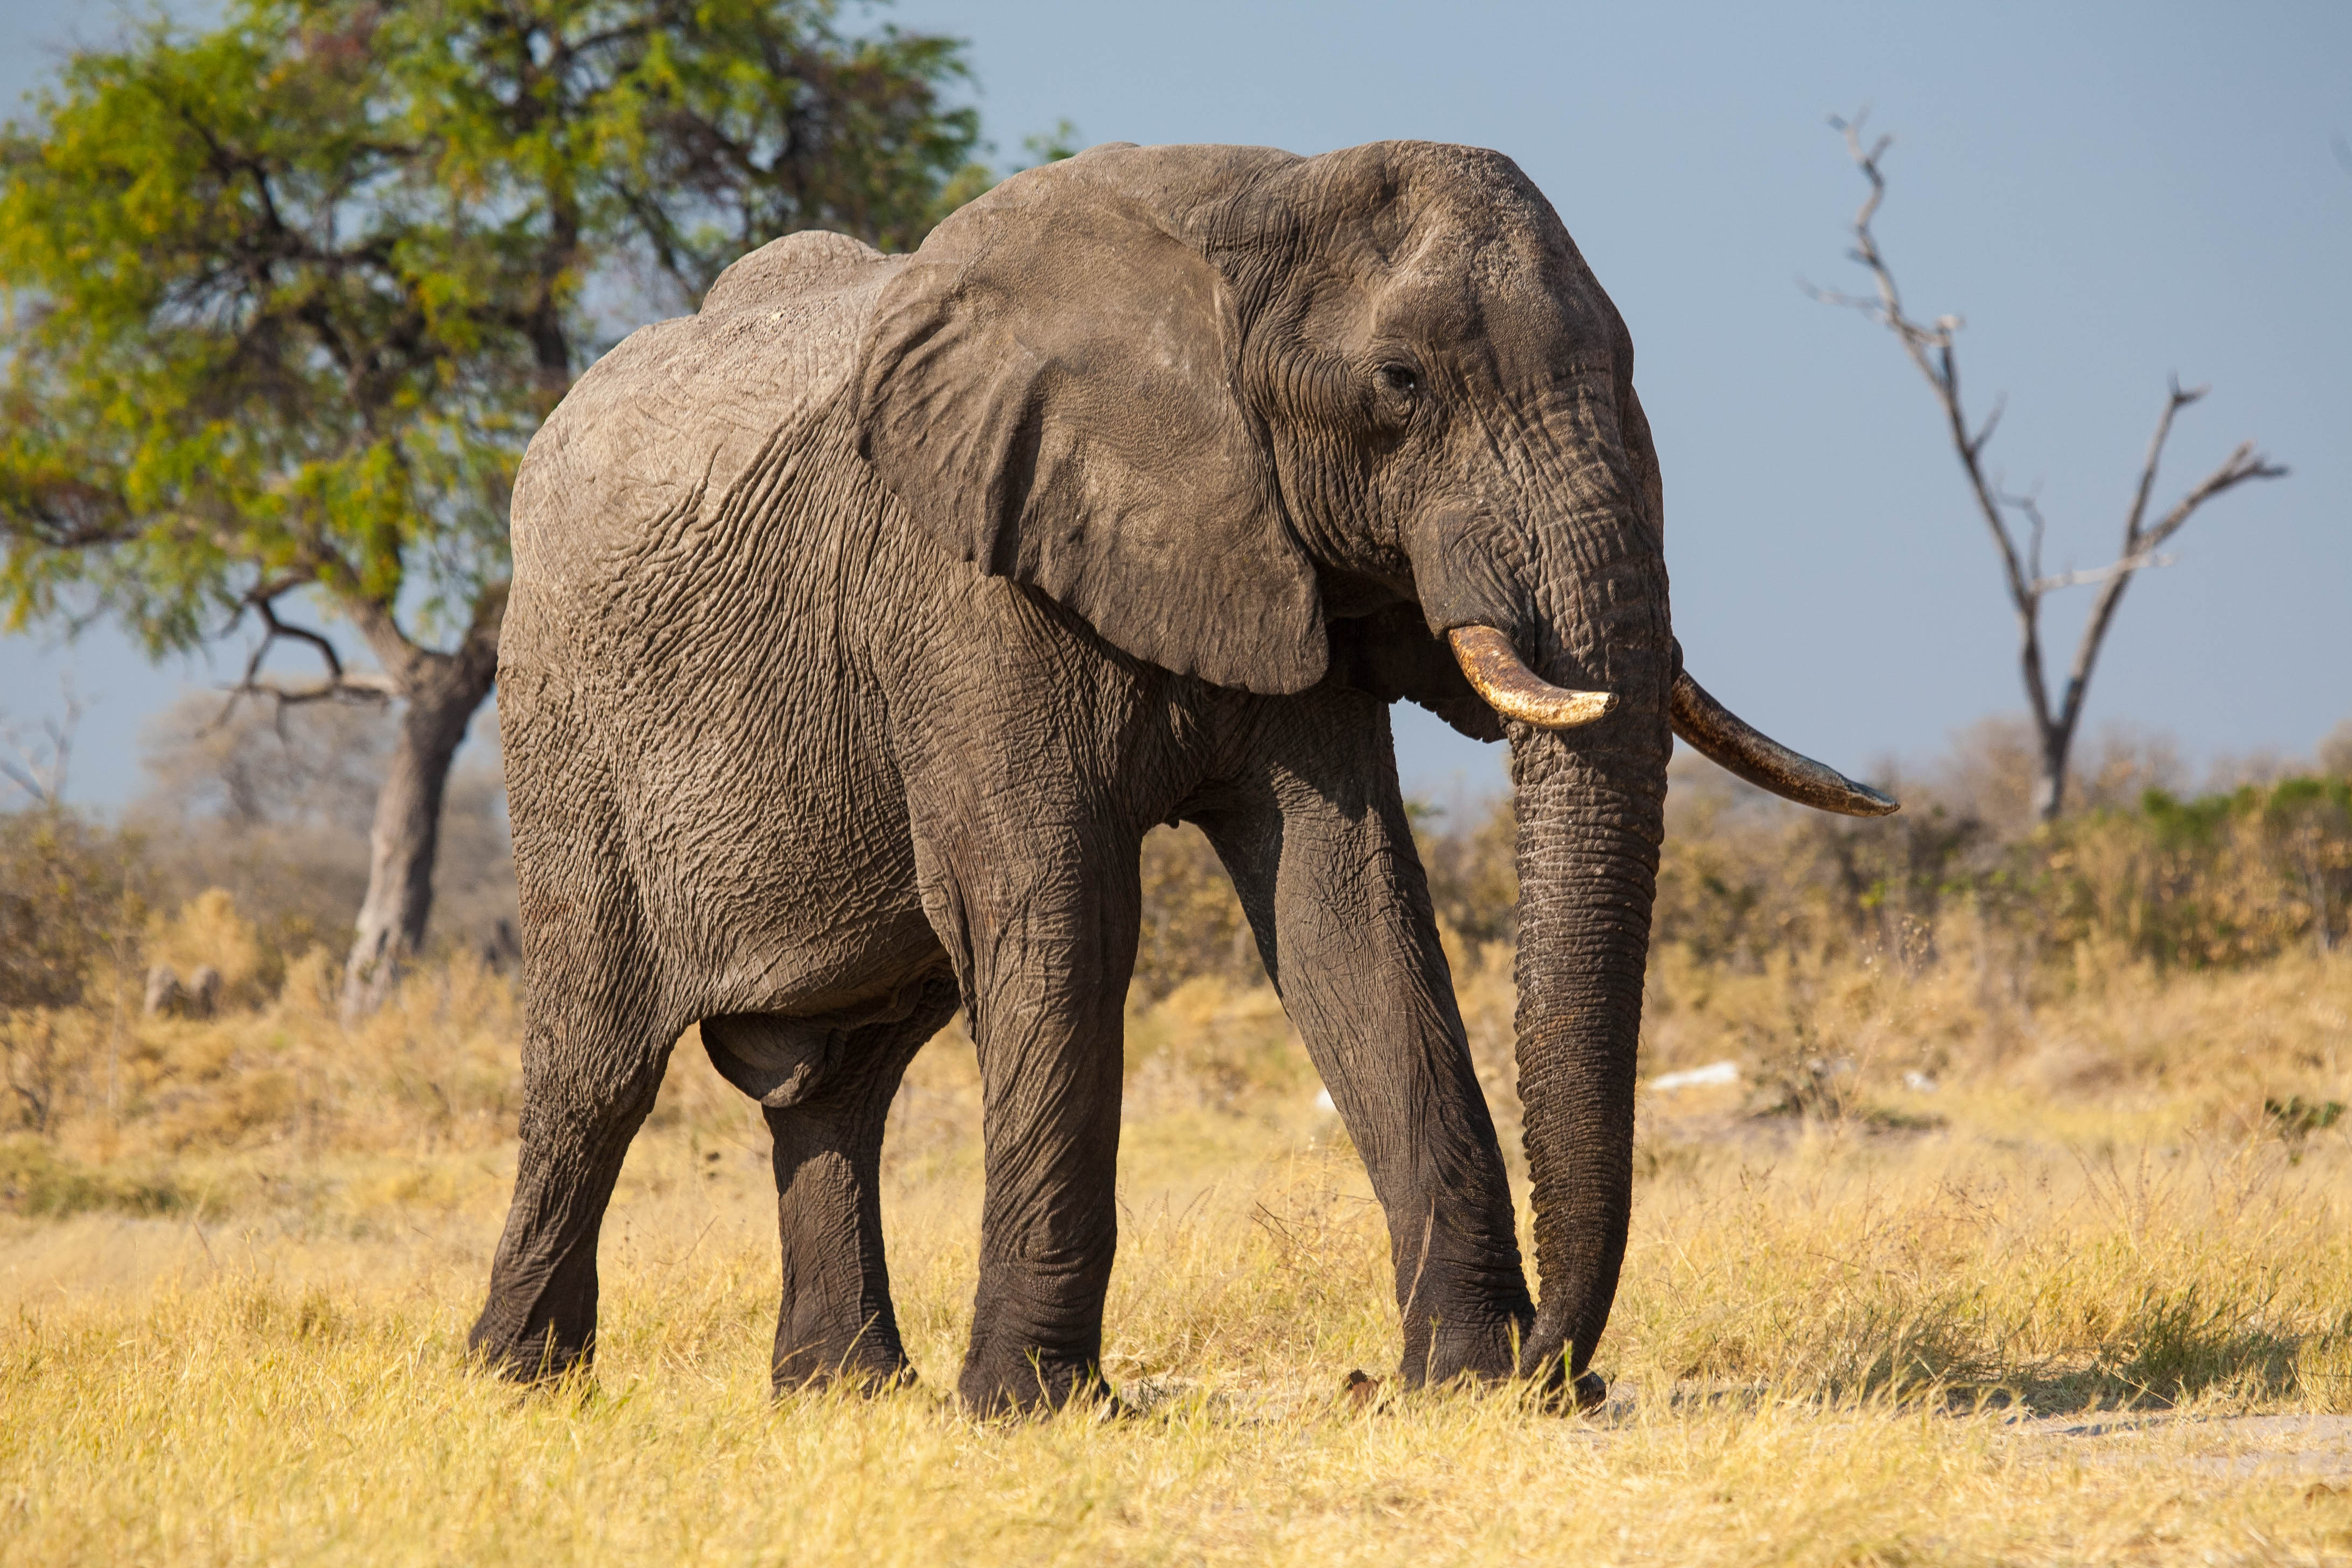elephant: (472, 135, 1911, 1438)
